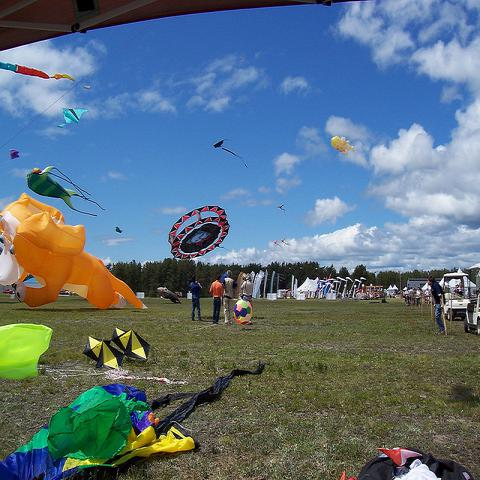car: (463, 294, 479, 340), (444, 297, 471, 322)
